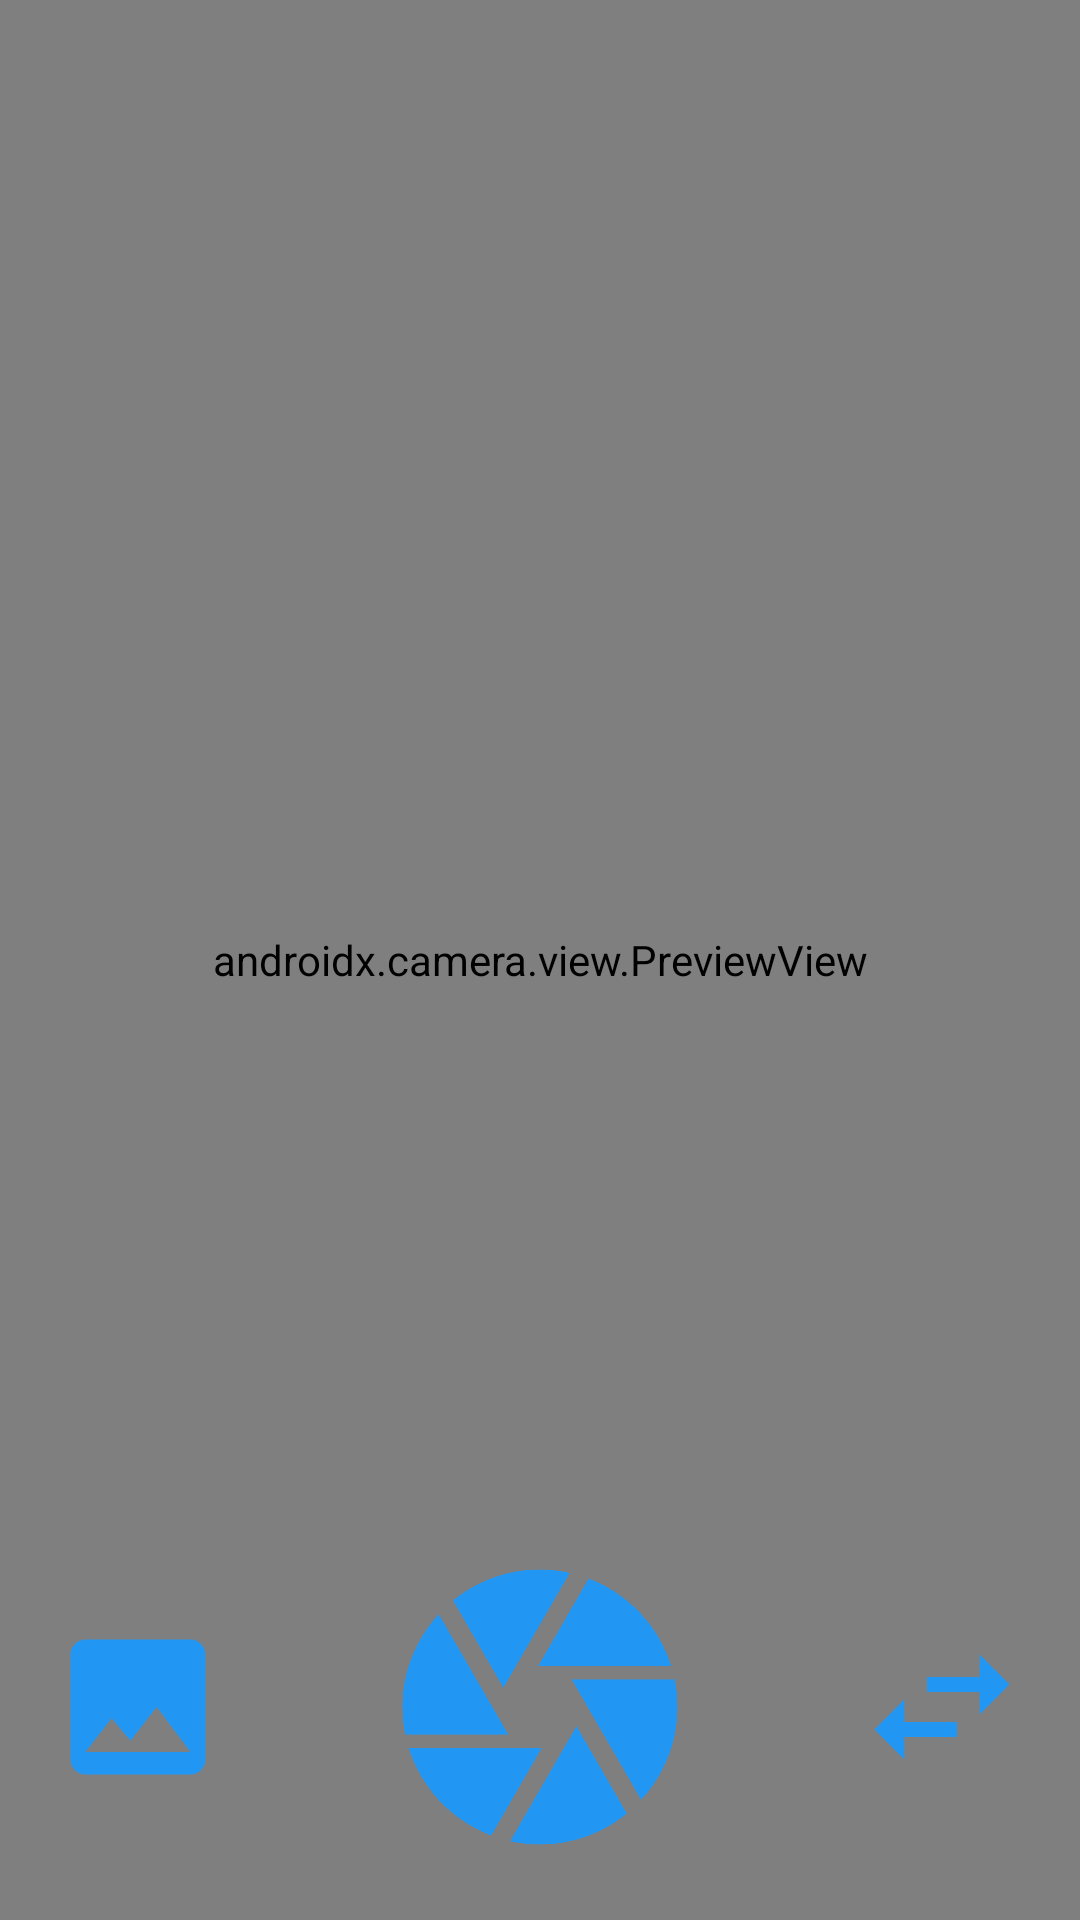

Screen size 1080px×1920px. Icon name, then its center in pixels as [x,y]:
swap horiz: [942,1707]
